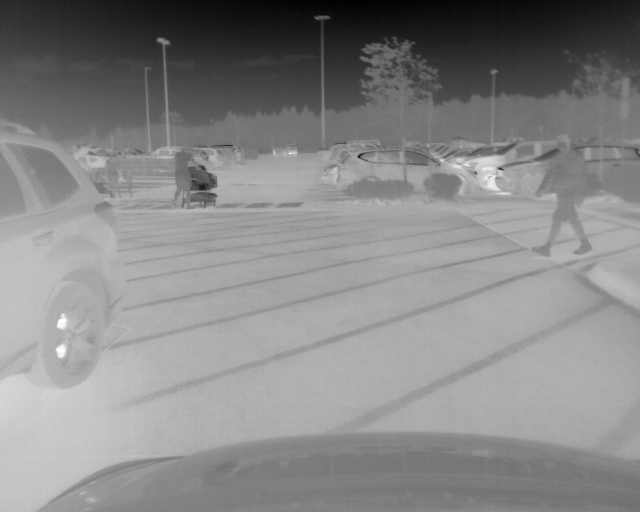car: (1, 118, 125, 393), (495, 142, 640, 199), (337, 146, 480, 198), (456, 140, 552, 194), (151, 146, 203, 160), (204, 146, 227, 169), (271, 142, 299, 157), (221, 144, 237, 166)
people: (530, 133, 595, 257), (167, 148, 200, 208), (106, 154, 121, 198), (120, 154, 134, 195)
